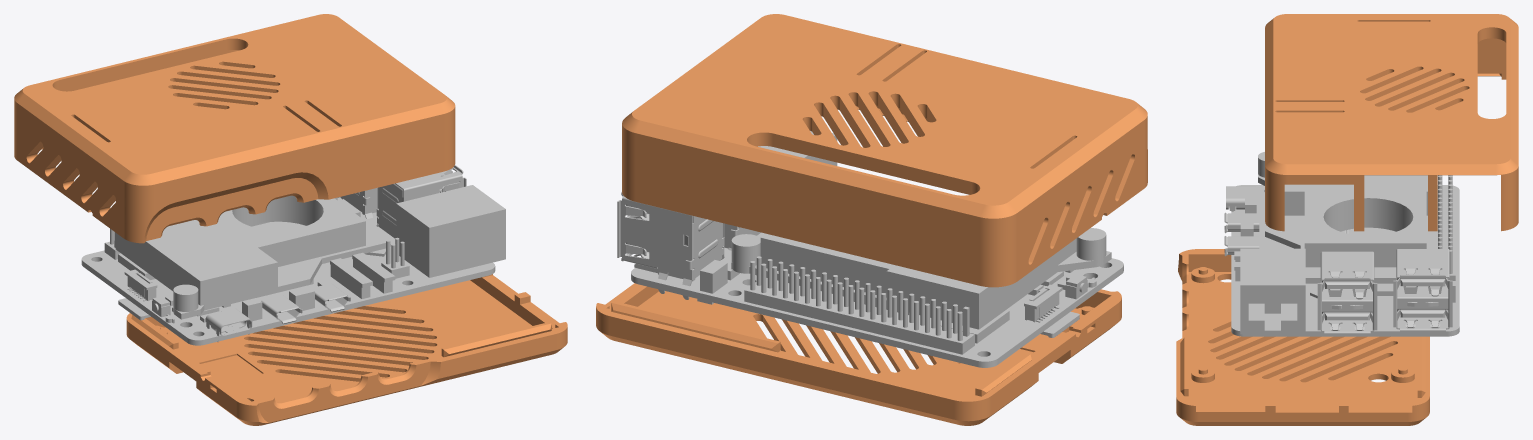
Rendered from bytebite-unit.glb.
3 renders of one model, left to right at view 1: azimuth 30°, elevation 25°; view 2: azimuth 150°, elevation 25°; view 3: azimuth 270°, elevation 25°, orthographic. The views are drawn at different scales.
Visible parts, largest first — view 1: top.001, bottom.003, Body1.037, Body1.024, Body21.001, Body1.025, Body1.027, Body1.023, Body1.036, Body1.030, Body1.021, Body1.034 (+2 smaller); view 2: top.001, bottom.003, Body1.037, Body1.020, Body21.001, Body1.035, Body1.026, Body1.031, Body1.019; view 3: top.001, bottom.003, Body1.037, Body1.024, Body1.025, Body1.035, Body21.001, Body1.020, Body1.023, Body1.034, Body1.021.
Boxes of the visible parts, x1,y1,x2,y2 form: top.001: (14,14,455,243); bottom.003: (126,274,567,425); Body1.037: (115,195,386,319); Body1.024: (396,185,505,277); Body21.001: (81,197,495,345); Body1.025: (376,165,466,238); Body1.027: (330,258,372,298); Body1.023: (205,308,252,341); Body1.036: (352,252,395,293); Body1.030: (381,237,409,278); Body1.021: (261,295,302,323); Body1.034: (311,283,350,312); top.001: (622,14,1147,287); bottom.003: (596,283,1121,425); Body1.037: (731,228,1111,329); Body1.020: (744,256,974,354); Body21.001: (631,232,1123,367); Body1.035: (617,192,724,299); Body1.026: (1024,284,1062,322); Body1.031: (700,260,727,293); Body1.019: (940,310,1009,343); top.001: (1265,14,1518,231); bottom.003: (1176,249,1429,425); Body1.037: (1258,152,1431,283); Body1.024: (1240,248,1305,334); Body1.025: (1317,251,1377,335); Body1.035: (1393,249,1452,332); Body21.001: (1231,185,1459,336); Body1.020: (1435,175,1455,280); Body1.023: (1226,186,1255,211); Body1.034: (1224,236,1259,256); Body1.021: (1224,212,1259,233).
Bounding box in the file's own units: 110 × 62.19 × 83.99.
